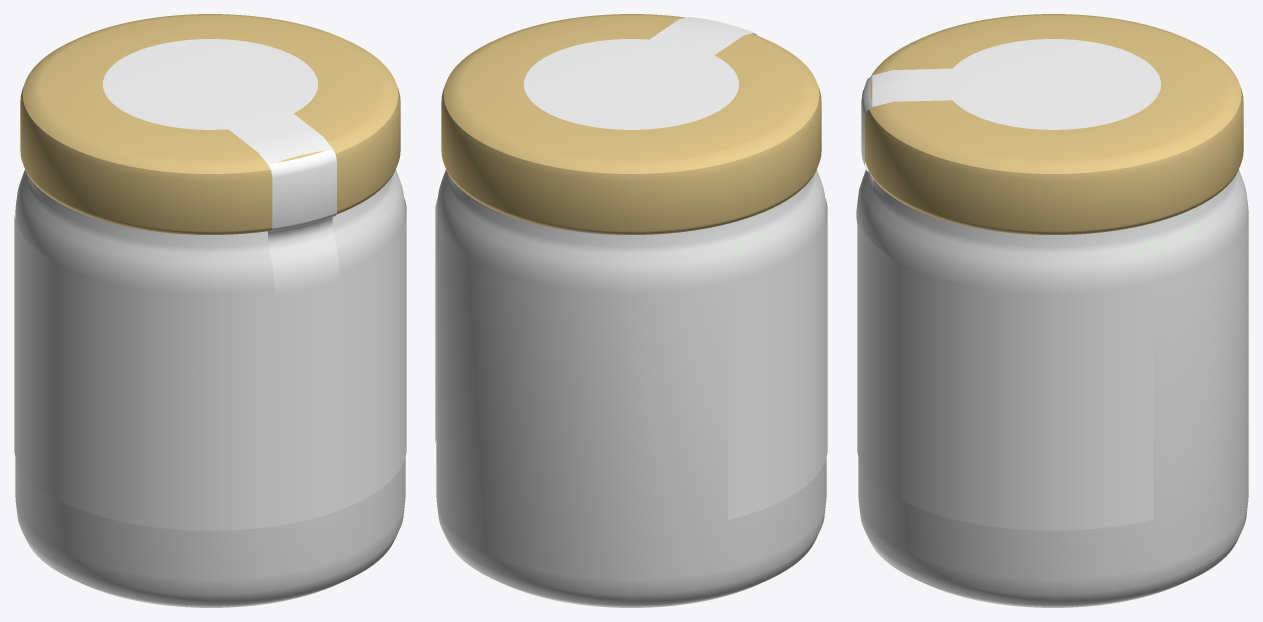
The model's file is vasetto.glb.
3 views of the same model, side by side, from view 1: azimuth 30°, elevation 25°; view 2: azimuth 150°, elevation 25°; view 3: azimuth 270°, elevation 25° (orthographic).
Parts seen in each view (by area): view 1: Etichetta, Vetro, TappoTop, Fascetta, TappoLato; view 2: Vetro, TappoTop, Etichetta, TappoLato, Fascetta; view 3: Vetro, Etichetta, TappoTop, TappoLato, Fascetta.
Part boxes in pixels (<box>): Etichetta: <box>14,197,406,530</box>; Vetro: <box>15,169,405,607</box>; TappoTop: <box>22,14,398,173</box>; Fascetta: <box>103,39,339,296</box>; TappoLato: <box>20,86,400,234</box>; Vetro: <box>436,169,826,607</box>; TappoTop: <box>443,14,819,173</box>; Etichetta: <box>435,197,827,519</box>; TappoLato: <box>441,86,821,234</box>; Fascetta: <box>524,17,756,129</box>; Vetro: <box>858,169,1248,607</box>; Etichetta: <box>857,225,1153,530</box>; TappoTop: <box>869,14,1241,173</box>; TappoLato: <box>865,86,1243,234</box>; Fascetta: <box>856,39,1160,232</box>.
Bounding box in the file's own units: 0.0784 × 0.1001 × 0.0783.
